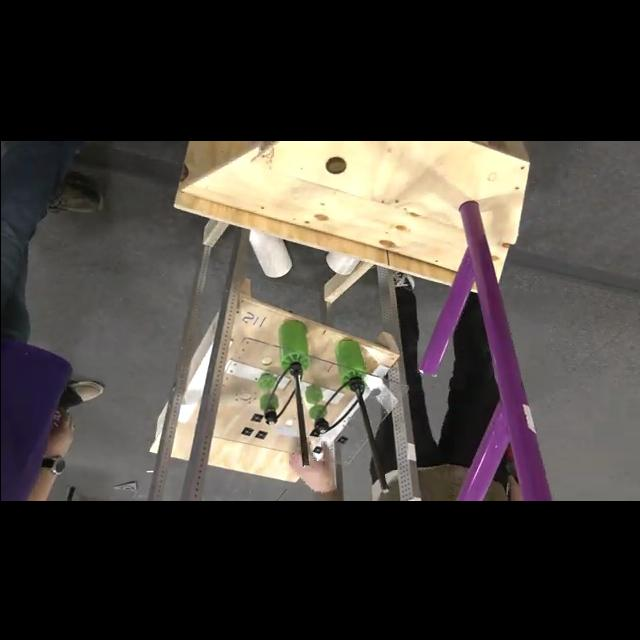CORAL: (246, 228, 290, 280), (326, 250, 358, 274)
